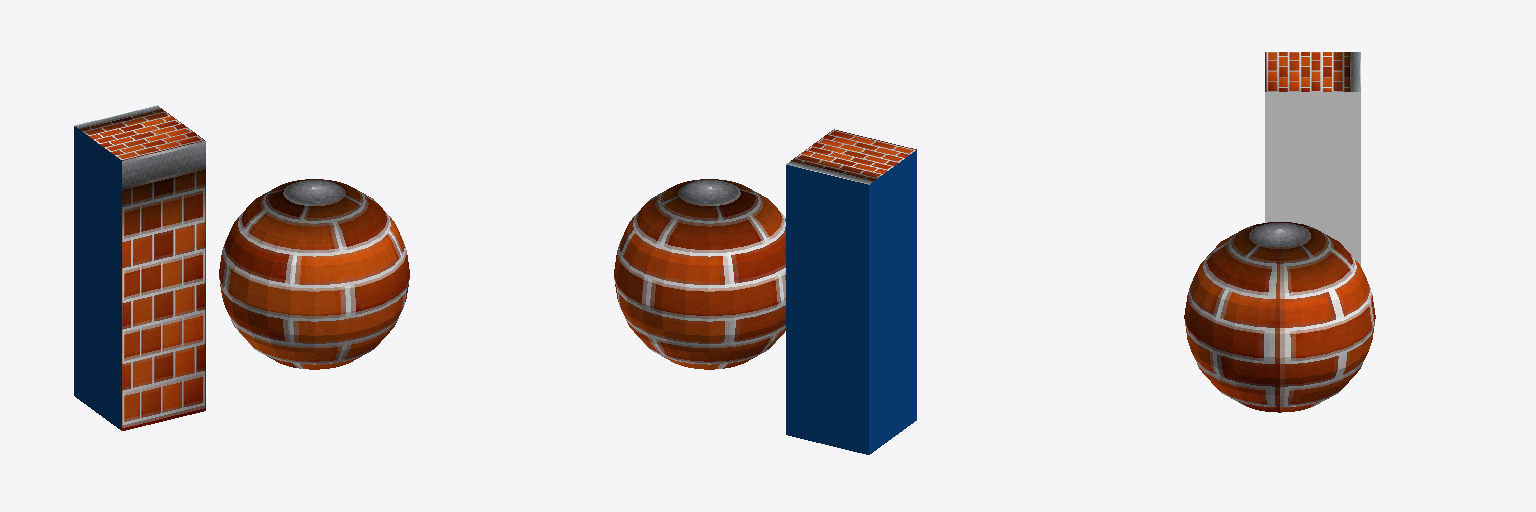
The picture shows the model from 3 angles: view 1: azimuth 30°, elevation 25°; view 2: azimuth 150°, elevation 25°; view 3: azimuth 270°, elevation 25°; orthographic projection.
Visible parts, largest first — view 1: Sphere.1; view 2: Sphere.1; view 3: Sphere.1.
Boxes of the visible parts, x1=… form: Sphere.1: x1=74, y1=105, x2=409, y2=430; Sphere.1: x1=614, y1=129, x2=916, y2=454; Sphere.1: x1=1184, y1=52, x2=1375, y2=412.
Size of the model in its own units: 170 by 155 by 99.58.
3 materials, 1 textured.